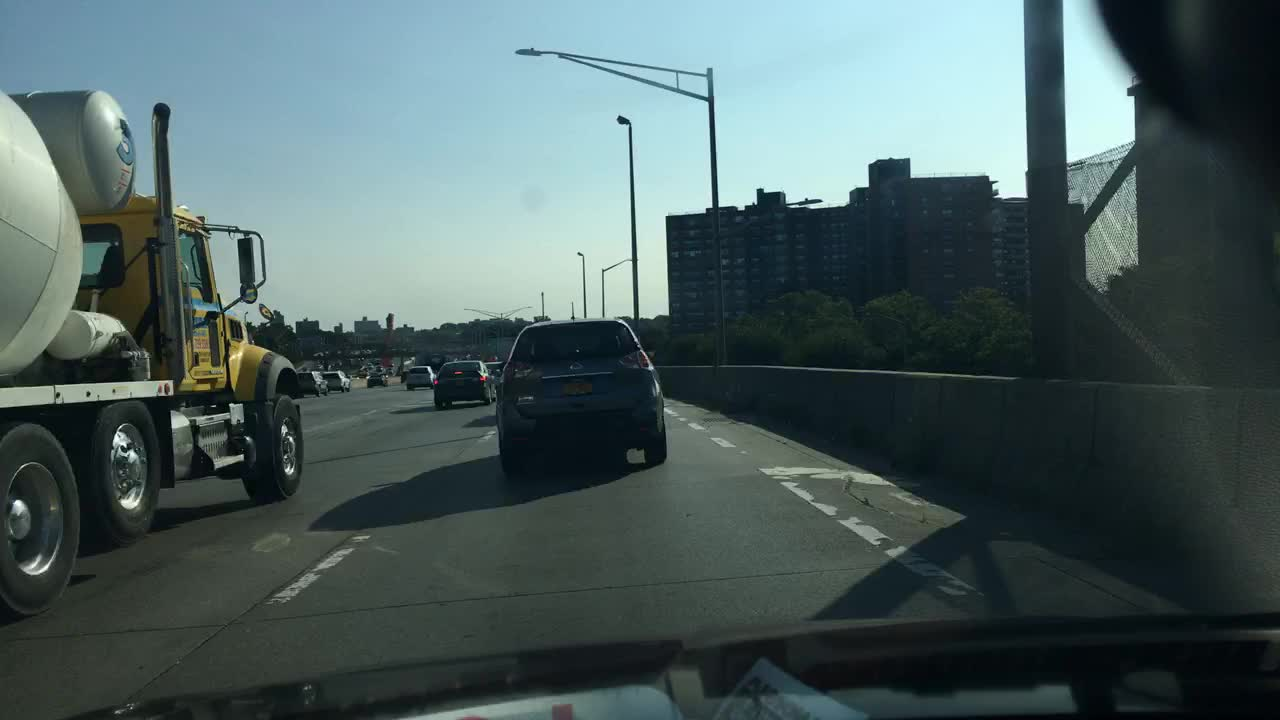car: (496, 319, 666, 470), (435, 360, 496, 408), (292, 370, 331, 395), (406, 364, 435, 391), (321, 369, 350, 391), (486, 360, 506, 391), (364, 369, 388, 386), (400, 366, 408, 381)
truck: (1, 84, 303, 616)
